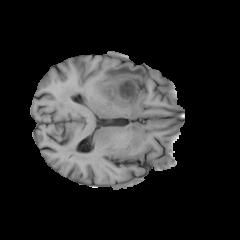glioma: (103, 64, 146, 104)
